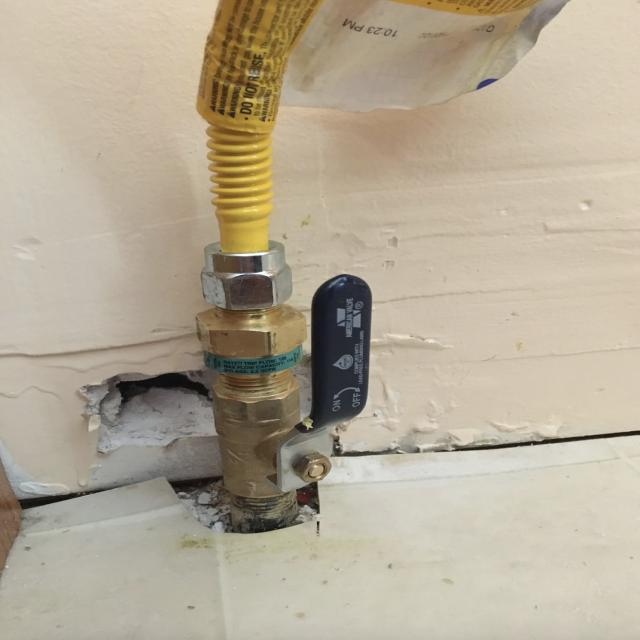Lever Handle Valve Threaded: (196, 275, 370, 498)
